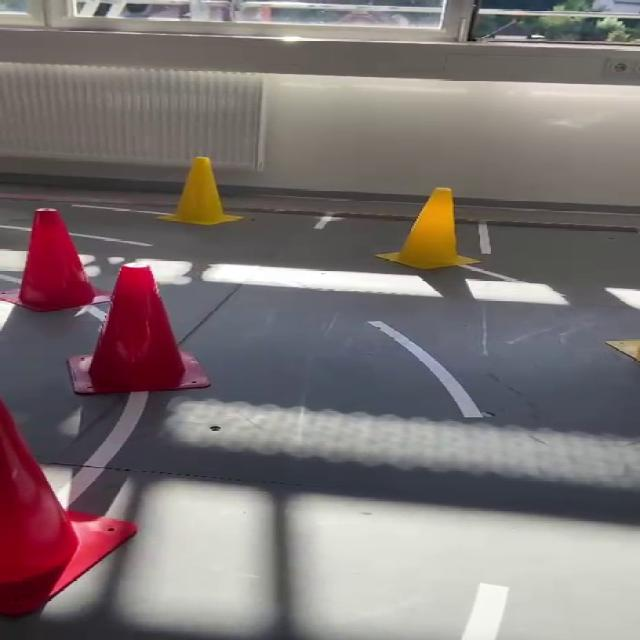Cone-red: (0, 208, 208, 393), (0, 399, 135, 615)
Cones-yellow: (377, 188, 480, 269), (159, 158, 243, 225), (607, 339, 639, 362)
